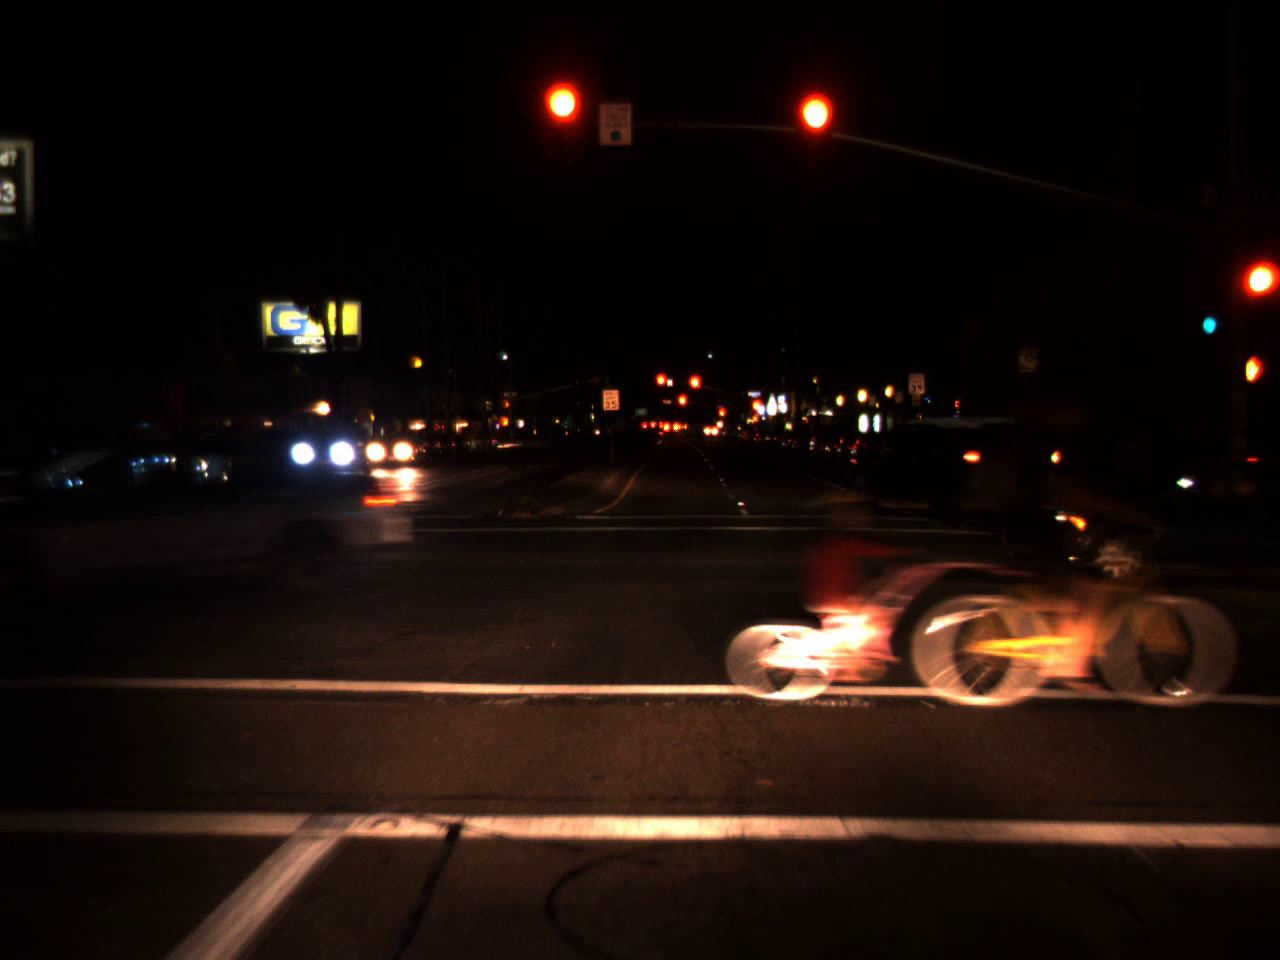stop: (542, 83, 581, 161), (798, 93, 834, 171), (1240, 262, 1280, 324), (687, 373, 702, 405), (654, 371, 670, 398), (750, 396, 763, 425), (677, 392, 689, 419), (717, 406, 727, 427)
